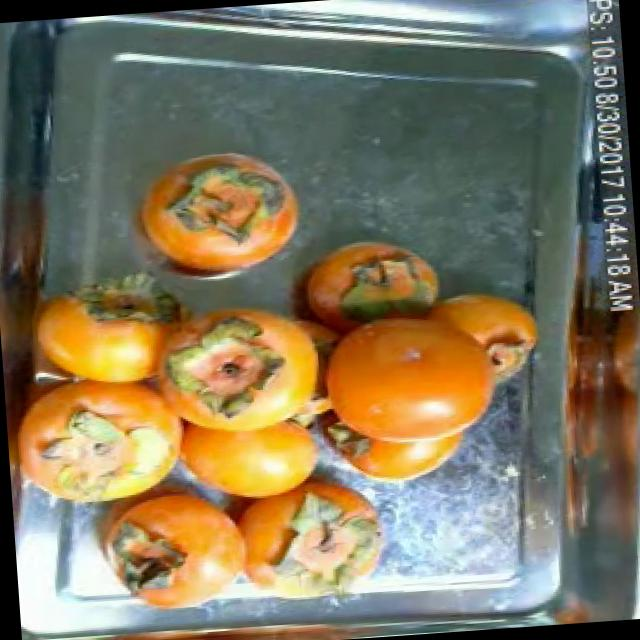Fruit: (150, 148, 316, 280), (309, 221, 454, 328)
